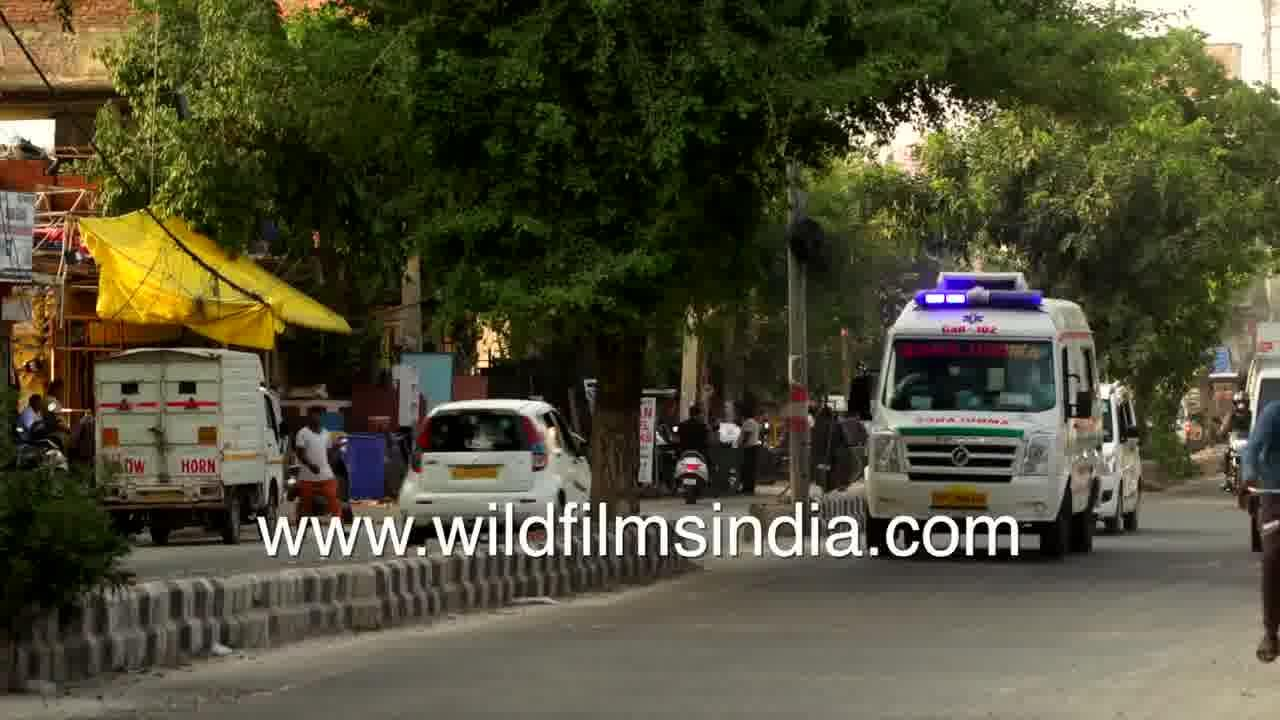AMBULANCE: (867, 259, 1101, 530)
